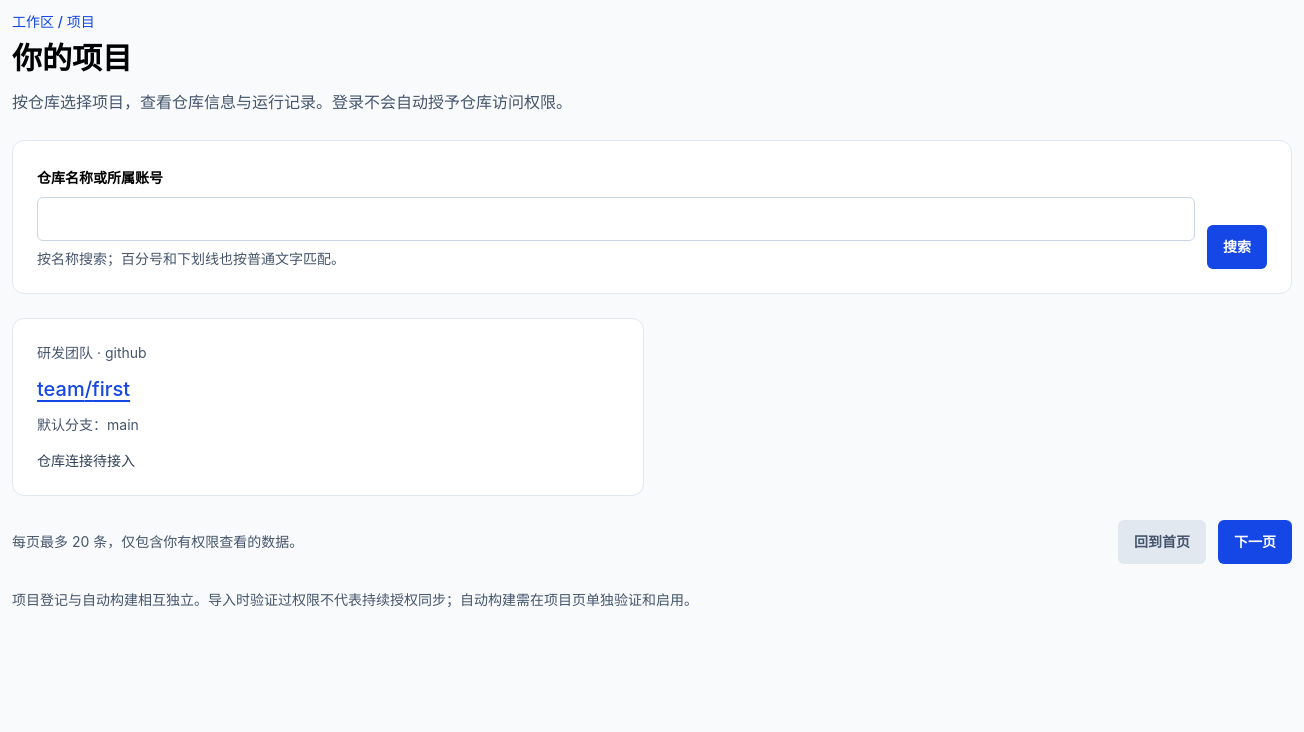
Test case: project list pages and literal searches are scoped and reset the cursor
Check: the text "仓库连接待接入" is shown, box [37,452,135,469]
Click the button "下一页": (1255, 542) [1218,520,1292,564]
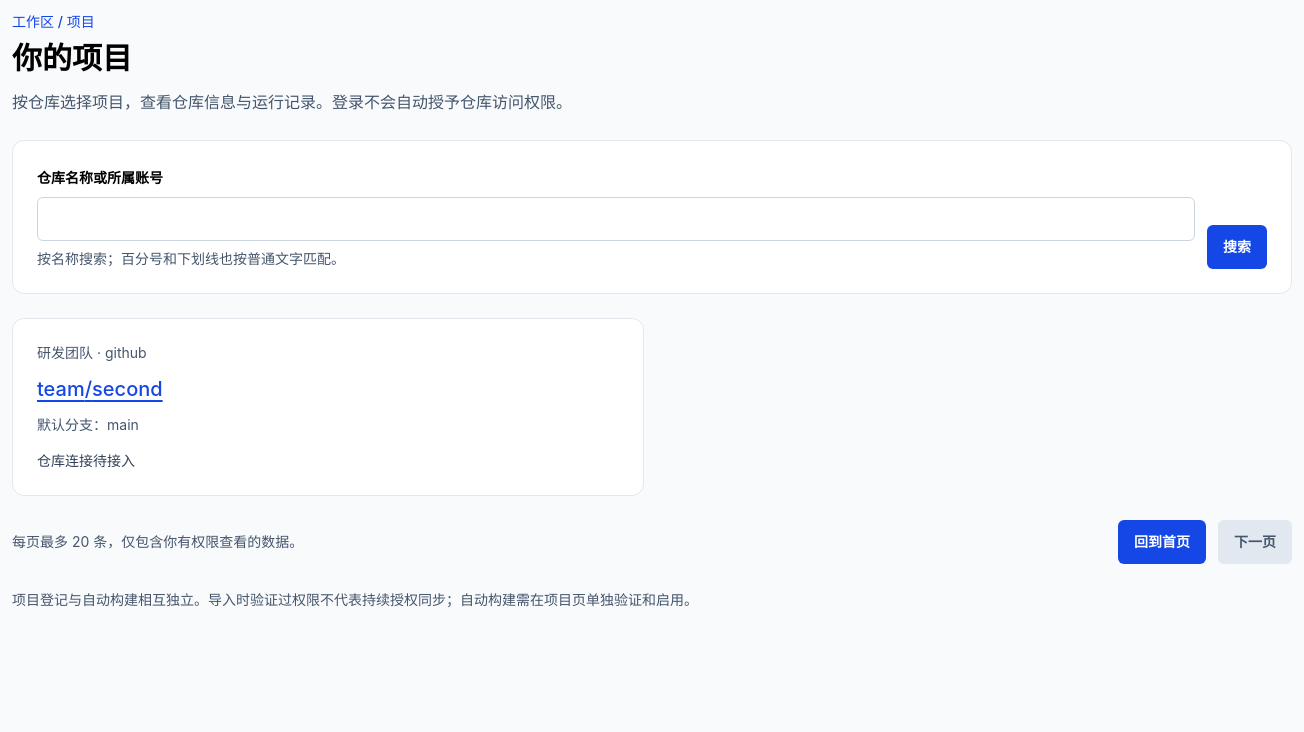
Check: the link "team/second" is shown, box [37,377,163,401]
Check: the link "team/first" is gone
In the search field labelled "仓库名称或所属账号": (616, 219) [37,197,1195,241], type "%_仓库"
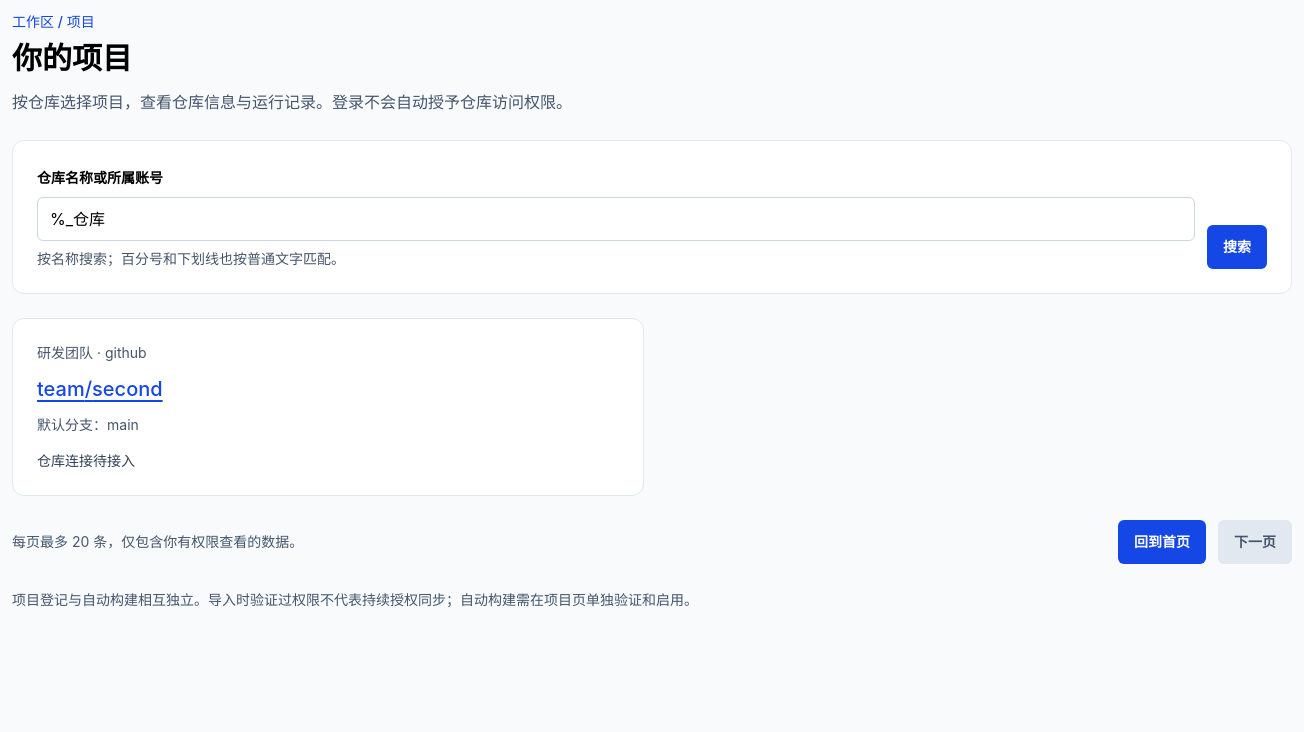
Submit the form, box [12,140,1292,294]
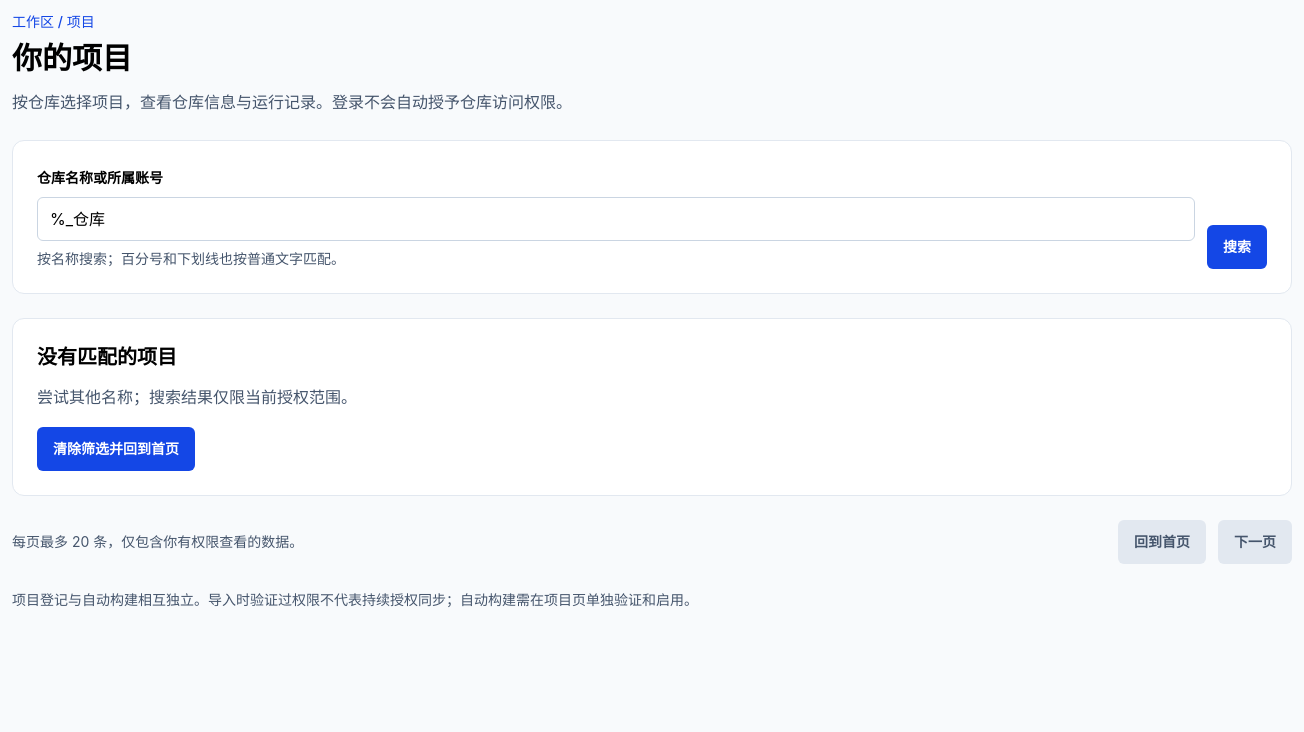
Check: the heading "没有匹配的项目" is shown, box [37,345,177,369]
Click the button "清除筛选并回到首页": (116, 449) [37,427,195,471]
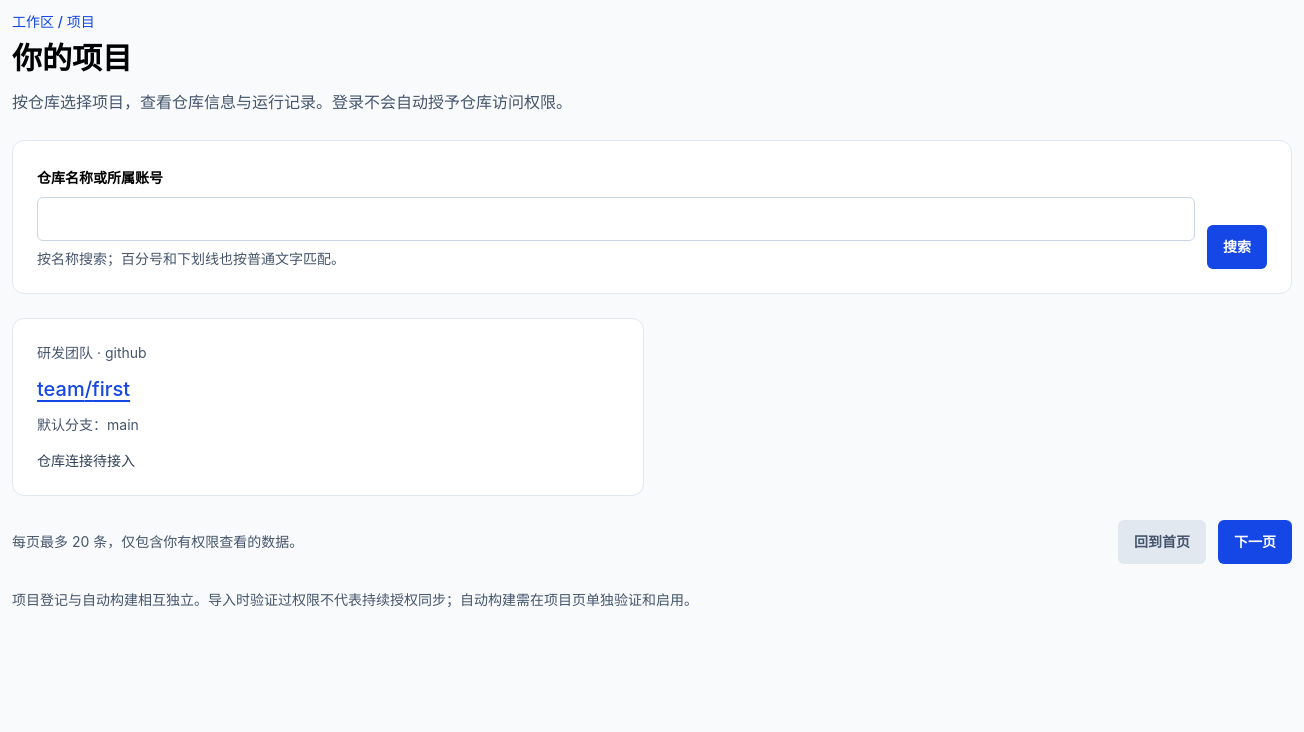
Check: the link "team/first" is shown, box [37,377,130,401]
